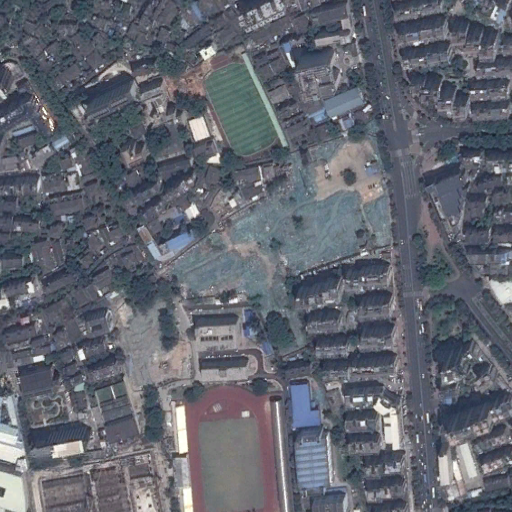cw: (171, 122, 395, 304), (116, 275, 196, 388)
